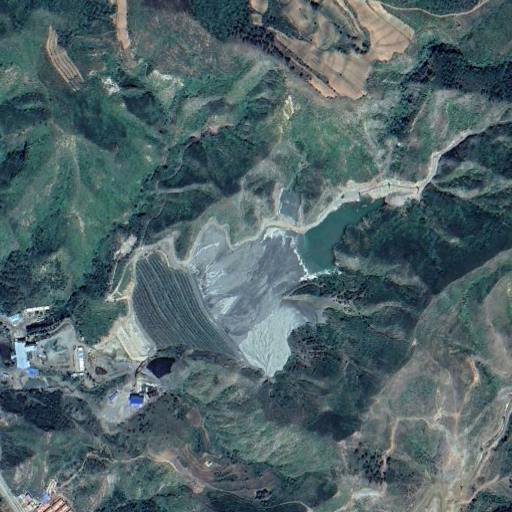tp: (116, 197, 388, 377)
